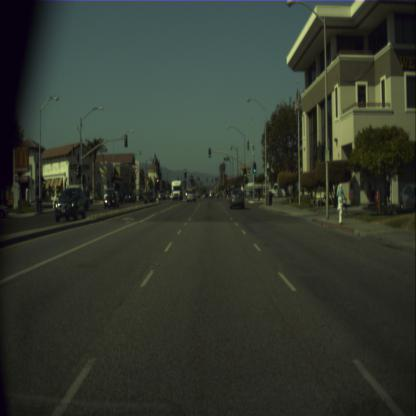Green: (253, 162, 256, 173), (208, 148, 211, 158), (244, 168, 247, 177)
Red: (156, 178, 160, 189), (184, 168, 186, 178), (111, 173, 113, 182)
